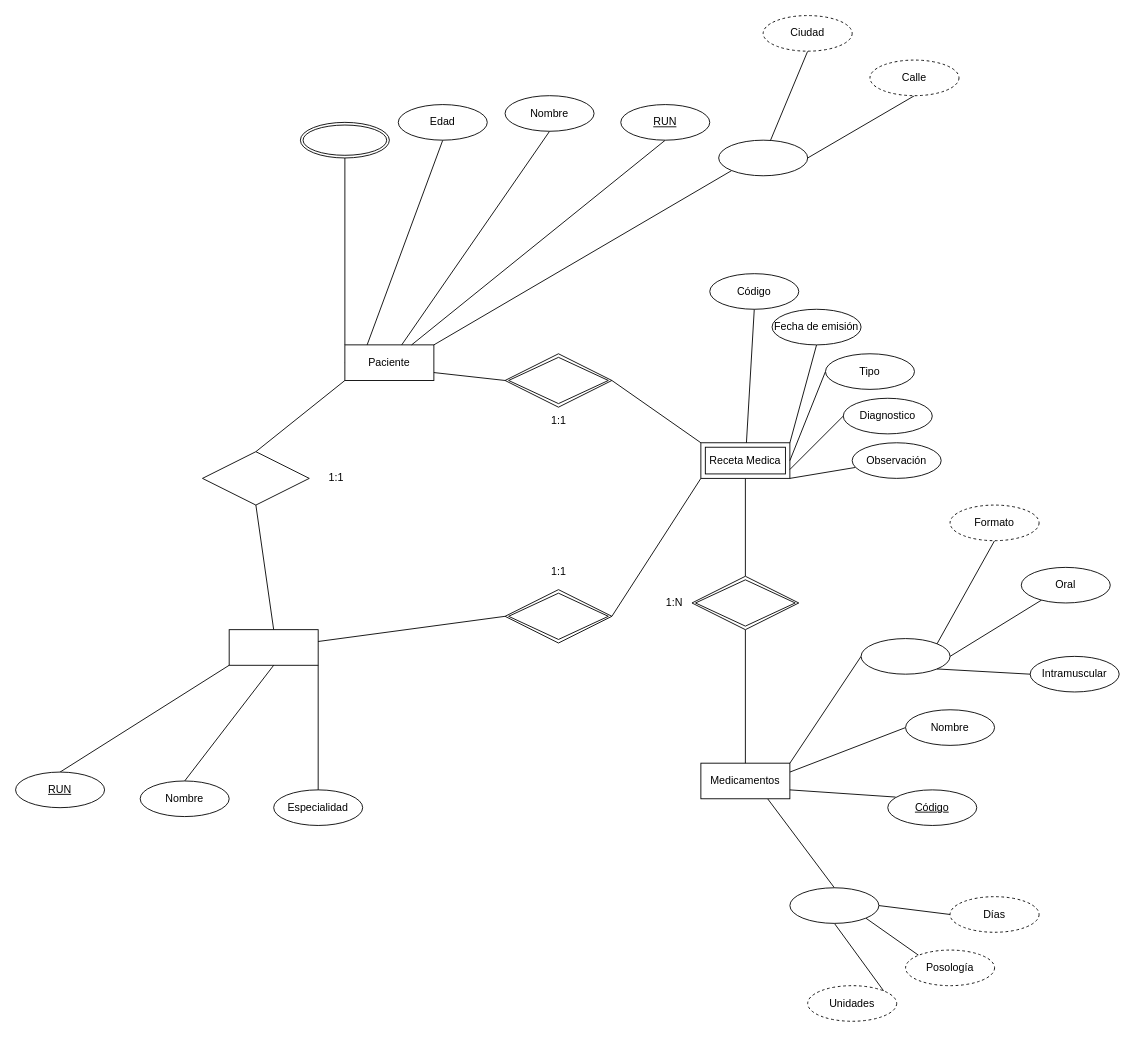
Some shapes in this 1135 by 1037 pixel diagram are drawn without their labels. Here are the shapes that lost their labels. From the top down, the centre of each, then its label:
At (344,139): "Fono".
At (763,157): "Domicilio".
At (558,380): "Recibe".
At (255,478): "Atiende".
At (558,616): "Entrega".
At (745,602): "Relationship".
At (273,647): "Medico".
At (905,656): "Administración".
At (834,905): "Prescripción".
